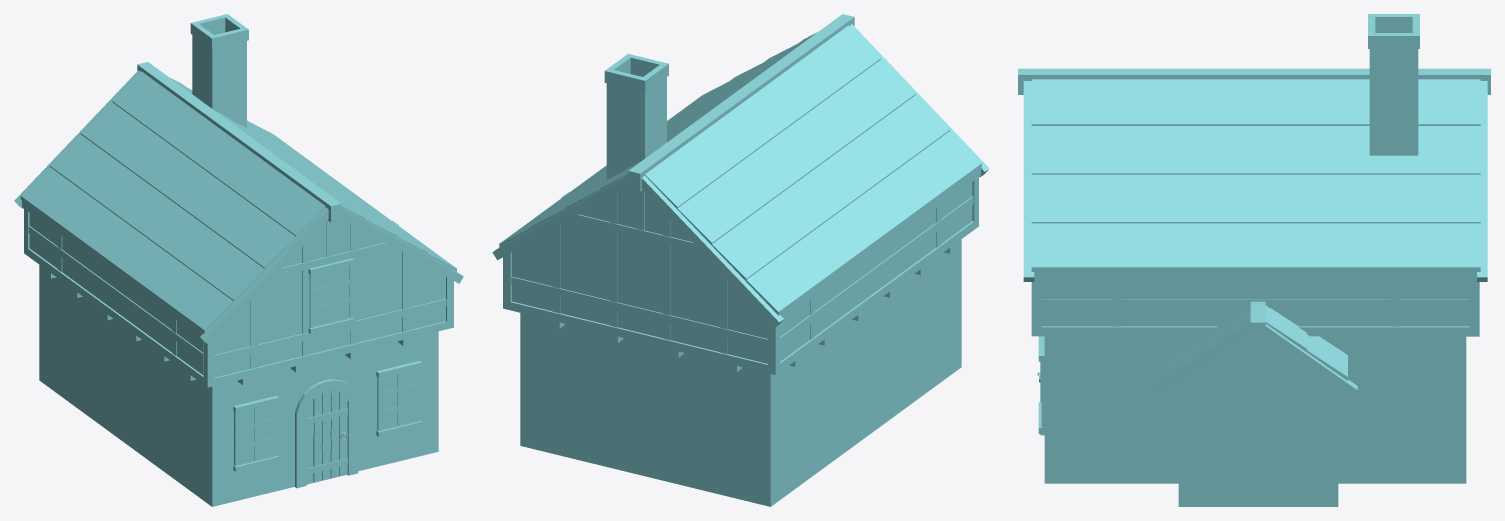
Rendered from Mega_Asset_s_Pack_Cube_395.FBX.
3 renders of one model, left to right at view 1: azimuth 30°, elevation 25°; view 2: azimuth 150°, elevation 25°; view 3: azimuth 270°, elevation 25°, orthographic. The views are drawn at different scales.
Visible parts, largest first — view 1: Mega_Asset_s_Pack_Cube_395; view 2: Mega_Asset_s_Pack_Cube_395; view 3: Mega_Asset_s_Pack_Cube_395.
Boxes of the visible parts, left/top/right/bottom form: Mega_Asset_s_Pack_Cube_395: left=14, top=14, right=463, bottom=506; Mega_Asset_s_Pack_Cube_395: left=492, top=14, right=989, bottom=506; Mega_Asset_s_Pack_Cube_395: left=1018, top=14, right=1490, bottom=506.
Size of what is drawn, in the model's own units: 1346 by 1570 by 1517.
